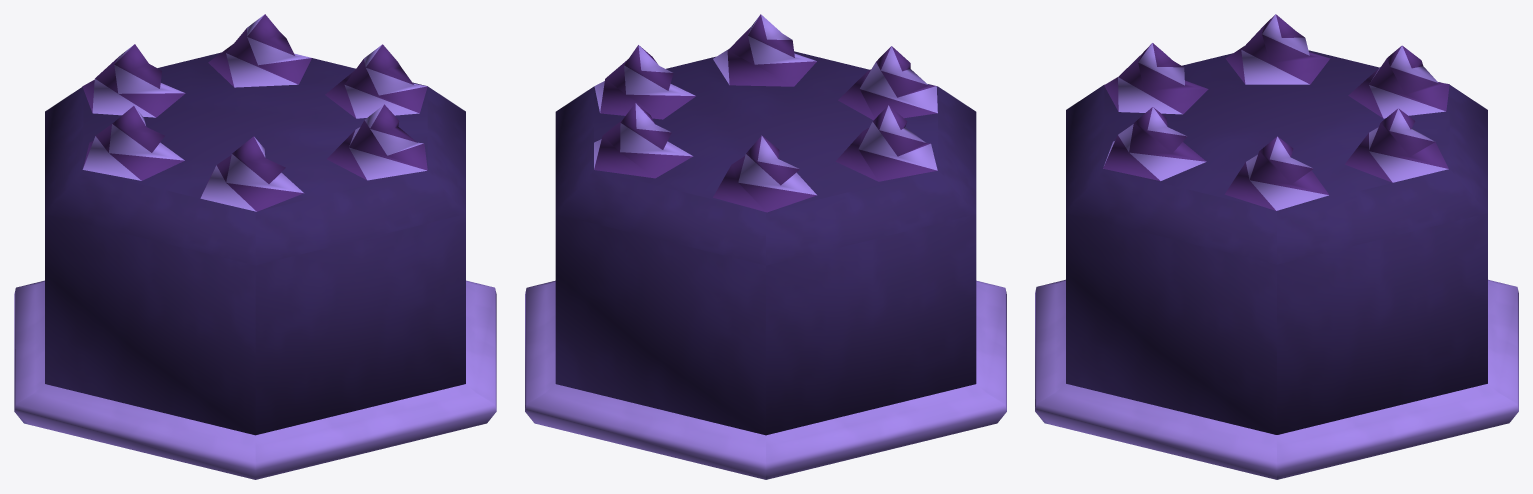
The model's file is Cake_B_11.FBX.
3 renders of one model, left to right at view 1: azimuth 30°, elevation 25°; view 2: azimuth 150°, elevation 25°; view 3: azimuth 270°, elevation 25°, orthographic.
Visible parts, largest first — view 1: Cake_2; view 2: Cake_2; view 3: Cake_2.
Part boxes in pixels (x1,y1,x2,y2): Cake_2: (14, 14, 496, 479); Cake_2: (525, 14, 1006, 479); Cake_2: (1035, 14, 1518, 479).
Size of the model in its own units: 117 by 67.83 by 101.
